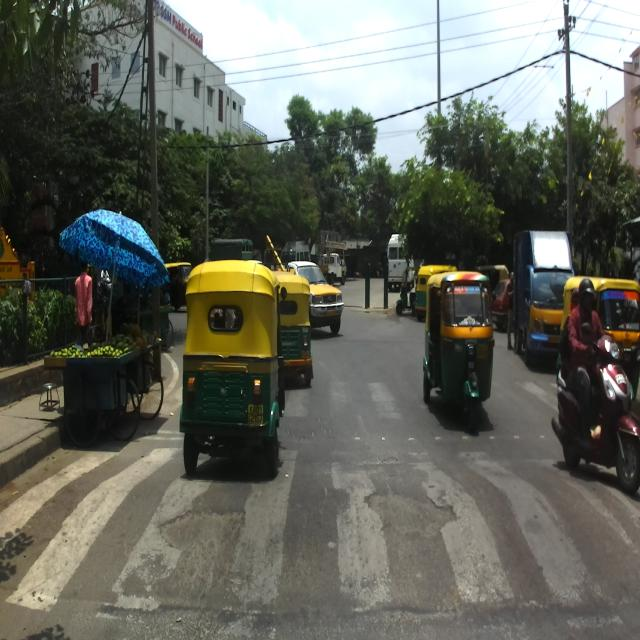auto ahead at: (182, 269, 282, 464), (422, 271, 498, 430), (280, 277, 313, 389)
motorcycle ahead at: (553, 330, 640, 491)
